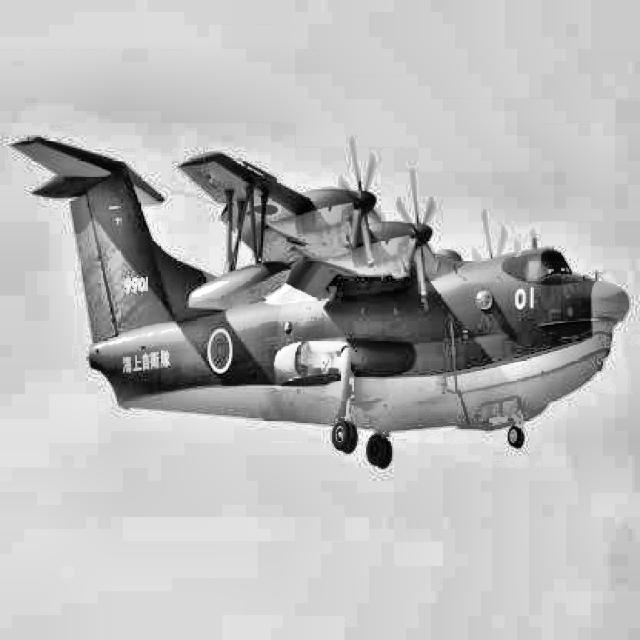US2: (6, 136, 631, 470)
